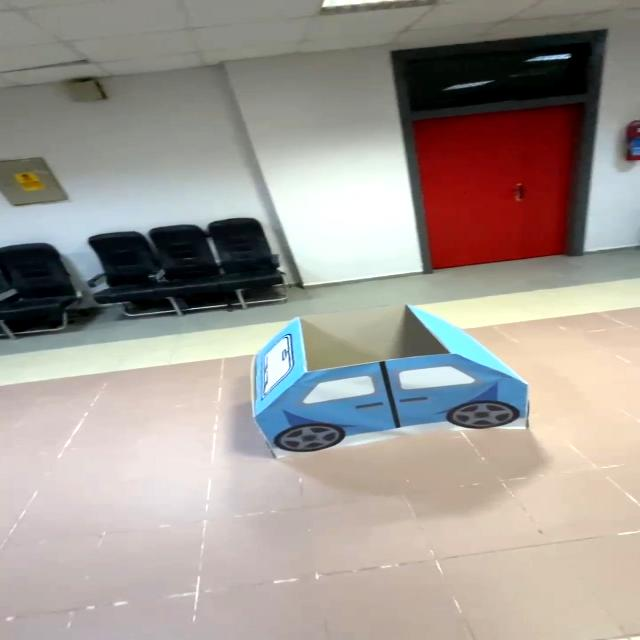blue_car: (222, 294, 563, 467)
